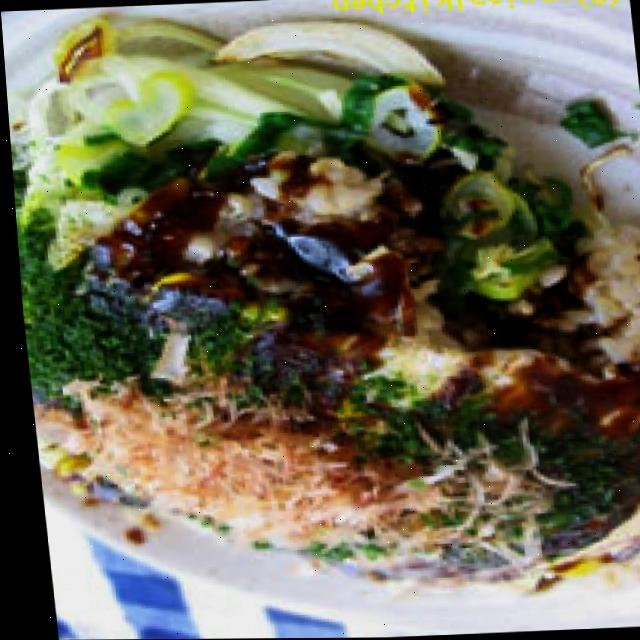蛋糕甜品: (0, 0, 640, 614)
